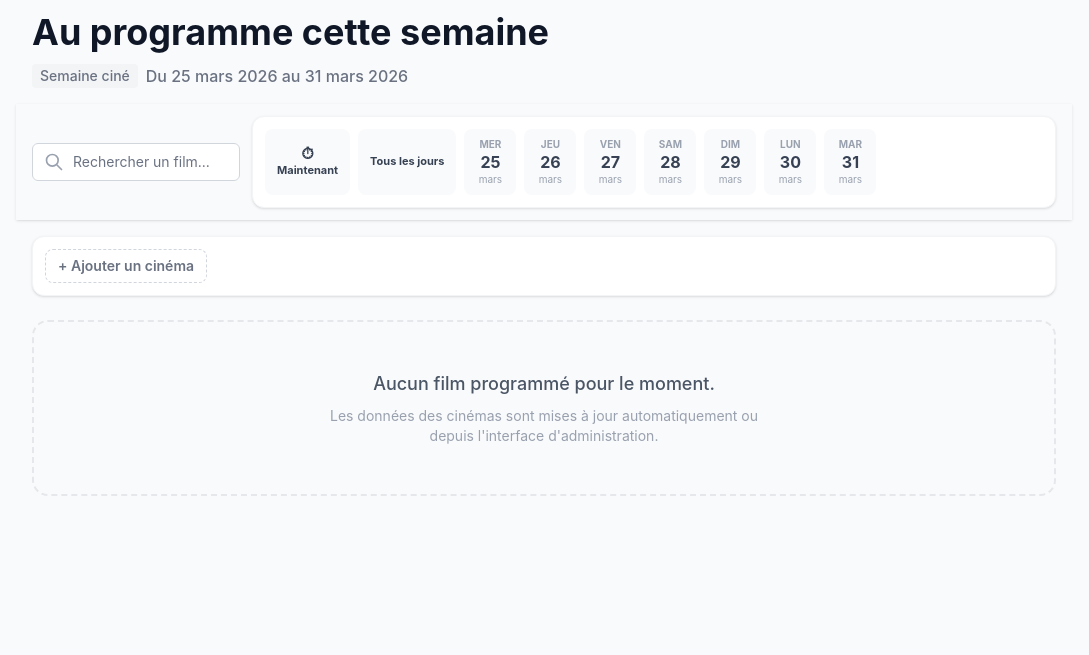
Test: HomePage — bouton Maintenant › hides films with only past showtimes after Maintenant click
Step 1. Click the button "⏱ Maintenant" → (308, 162), box [265,129,350,195]
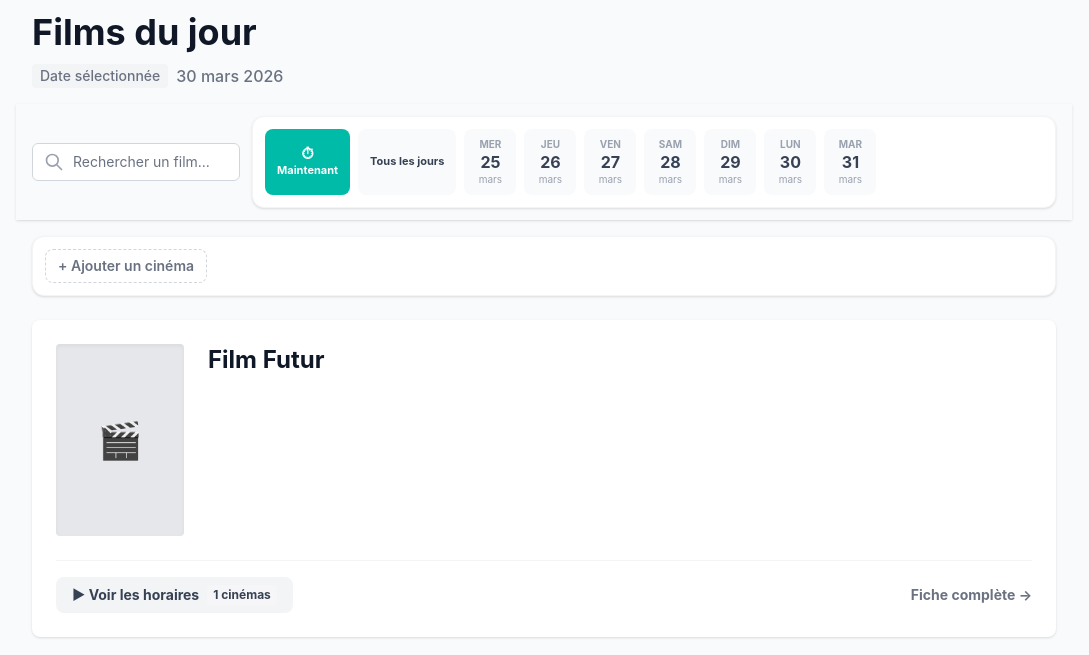
Now the link "Film Futur" is shown, box [208,345,324,374]
